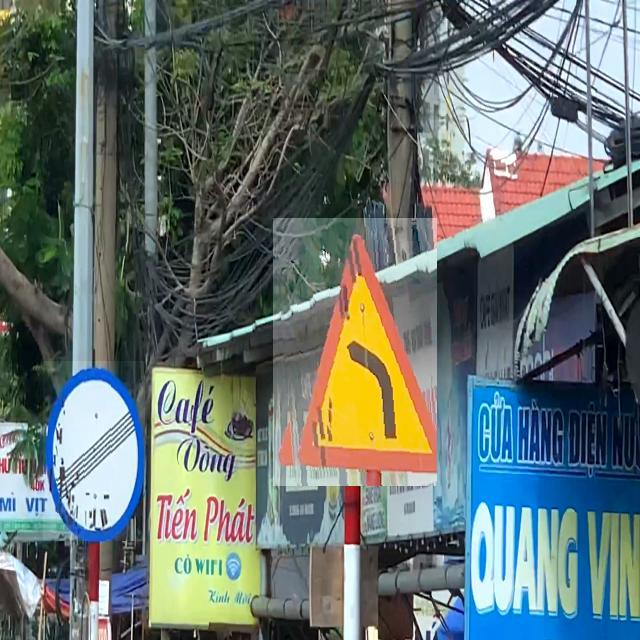DP-135: (43, 361, 145, 541)
W-201a: (273, 218, 437, 486)
